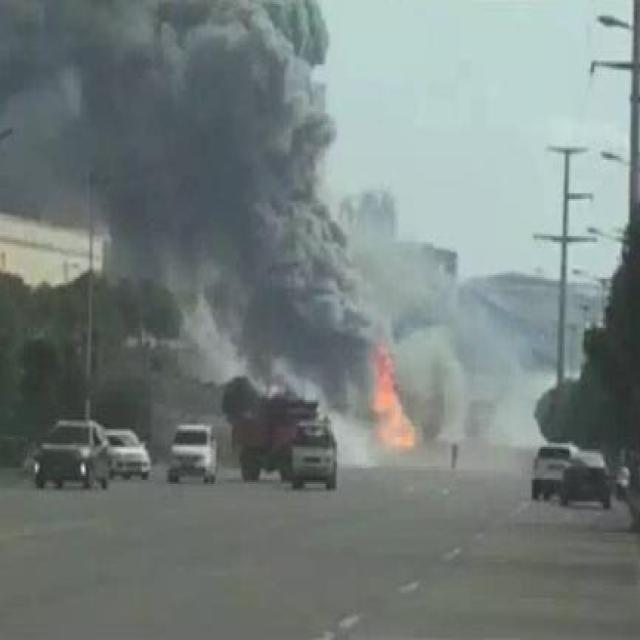fire: (366, 345, 416, 447)
smoke: (0, 0, 534, 453)
